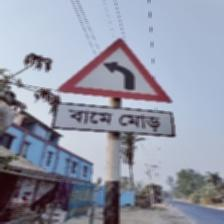Left-Turn: (54, 39, 176, 140)
